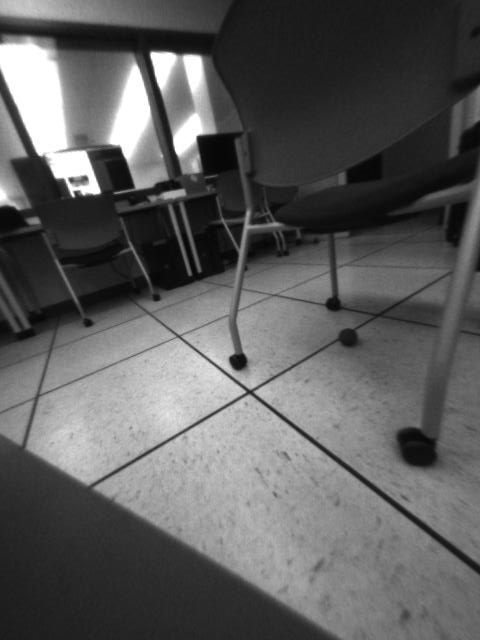dogtoy: (334, 324, 364, 350)
